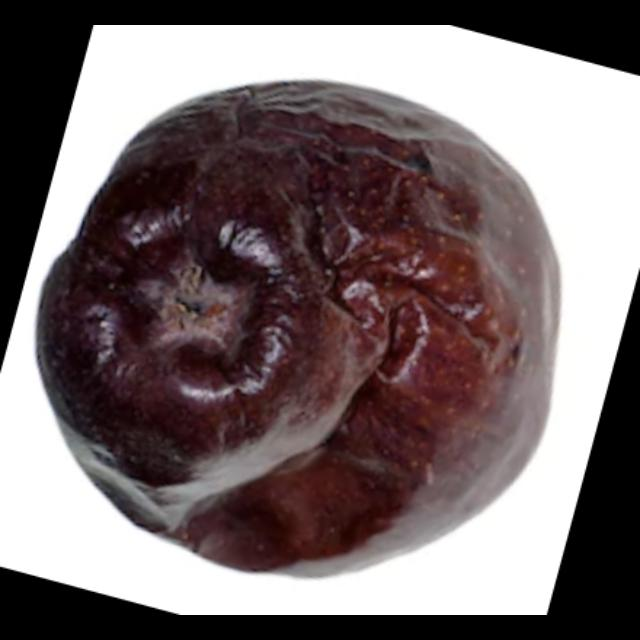Apel Tidak Segar: (24, 71, 568, 589)
